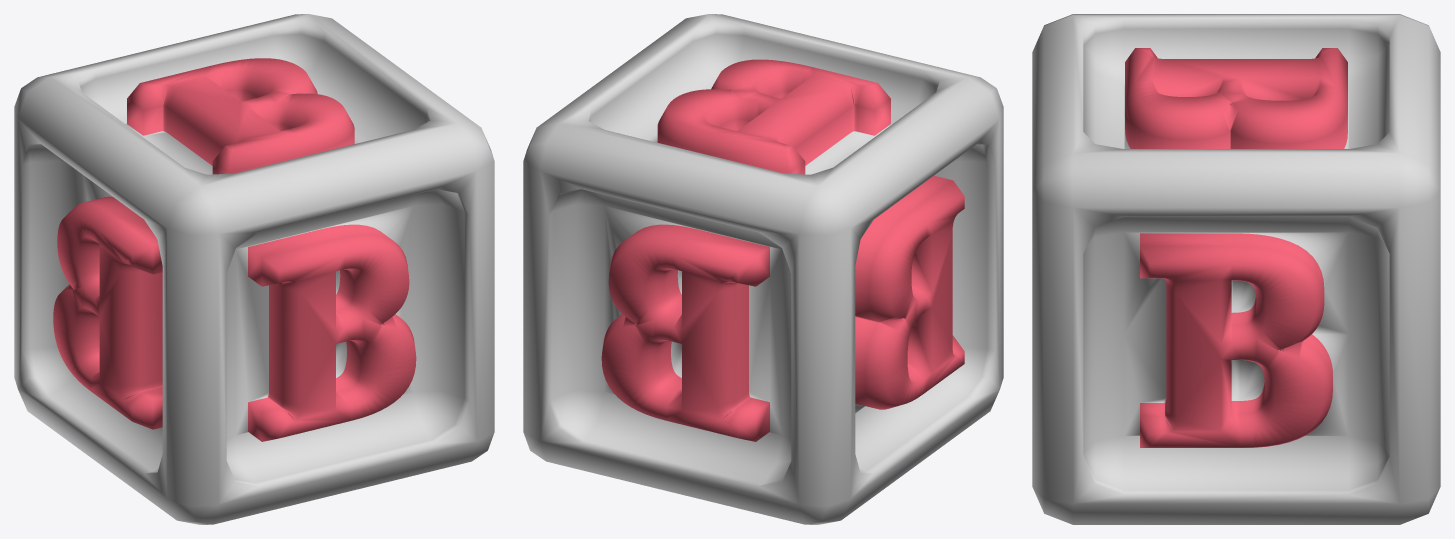
3 renders of one model, left to right at view 1: azimuth 30°, elevation 25°; view 2: azimuth 150°, elevation 25°; view 3: azimuth 270°, elevation 25°, orthographic. The views are drawn at different scales.
Parts seen in each view (by area): view 1: obj_0; view 2: obj_0; view 3: obj_0.
Part boxes in pixels (bbox=[...]): obj_0: bbox=[14, 14, 494, 524]; obj_0: bbox=[523, 14, 1003, 524]; obj_0: bbox=[1032, 14, 1440, 524].
Size of the model in its own units: 100 by 100 by 100.
